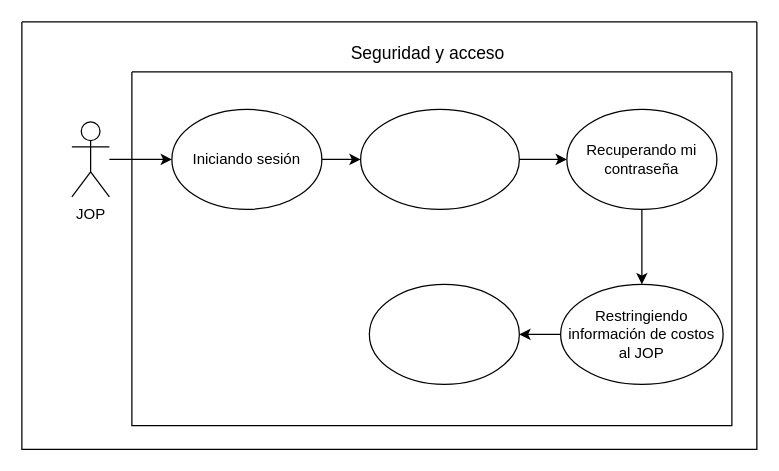
The diagram is 779 pixels wide and 471 high, and some of its shapes have lost their labels. The shapes that lost their labels are listed below. From the top down, each one's centre as x and y in pixels, then its label:
At (439,158): "Validando la identidad del usuario".
At (443,333): "Ocultando costos en los reportes del JOP".
